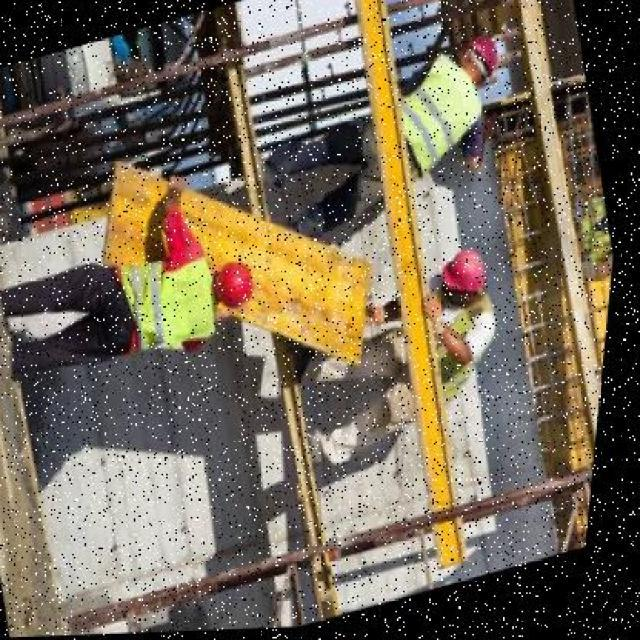helmet: (209, 252, 273, 322)
vest: (385, 45, 497, 177), (117, 254, 231, 368)
